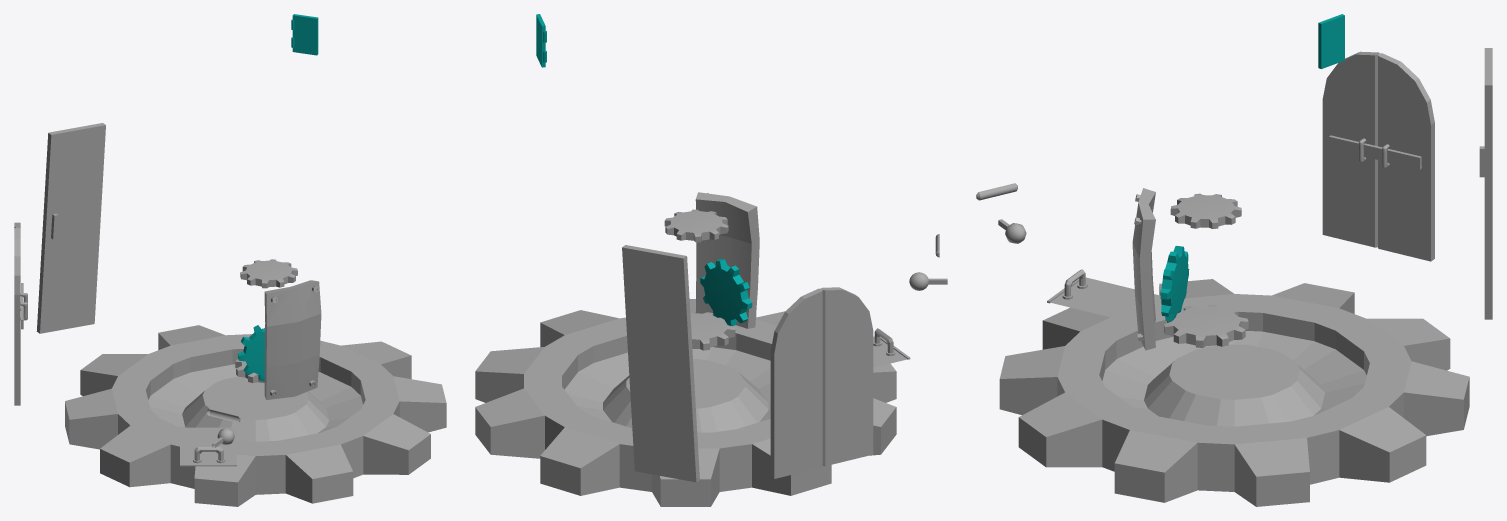
The model's file is LightHouseIndoor_dynamics.fbx.
3 renders of one model, left to right at view 1: azimuth 30°, elevation 25°; view 2: azimuth 150°, elevation 25°; view 3: azimuth 270°, elevation 25°, orthographic. The views are drawn at different scales.
Visible parts, largest first — view 1: UnderGear, closetDoor, furnaceDoor1, trapDoor, door, Gear, powerBoxDoor, pCylinder22; view 2: UnderGear, door, closetDoor, furnaceDoor1, pCylinder22, Gear, pCylinder19, trapDoor; view 3: UnderGear, door, furnaceDoor1, trapDoor, pCylinder19, closetDoor, Gear, pCylinder22, powerBoxDoor, pCube215.
Boxes of the visible parts, x1,y1,x2,y2 form: UnderGear: [65, 325, 446, 506]; closetDoor: [36, 123, 105, 333]; furnaceDoor1: [264, 280, 321, 399]; trapDoor: [180, 427, 236, 466]; door: [14, 222, 27, 405]; Gear: [240, 259, 297, 288]; powerBoxDoor: [291, 14, 318, 55]; pCylinder22: [237, 325, 264, 381]; UnderGear: [475, 299, 896, 506]; door: [770, 287, 873, 478]; closetDoor: [622, 245, 699, 482]; furnaceDoor1: [695, 192, 759, 328]; pCylinder22: [700, 259, 752, 326]; Gear: [664, 209, 728, 242]; pCylinder19: [690, 312, 735, 350]; trapDoor: [873, 328, 910, 367]; UnderGear: [999, 279, 1469, 506]; door: [1322, 51, 1434, 261]; furnaceDoor1: [1132, 188, 1155, 350]; trapDoor: [1047, 269, 1161, 323]; pCylinder19: [1164, 305, 1248, 347]; closetDoor: [1479, 48, 1492, 319]; Gear: [1170, 193, 1241, 228]; pCylinder22: [1160, 246, 1189, 321]; powerBoxDoor: [1318, 14, 1344, 69]; pCube215: [1329, 135, 1421, 169].
Bounding box in the file's own units: 38.16 × 36.27 × 37.59.
